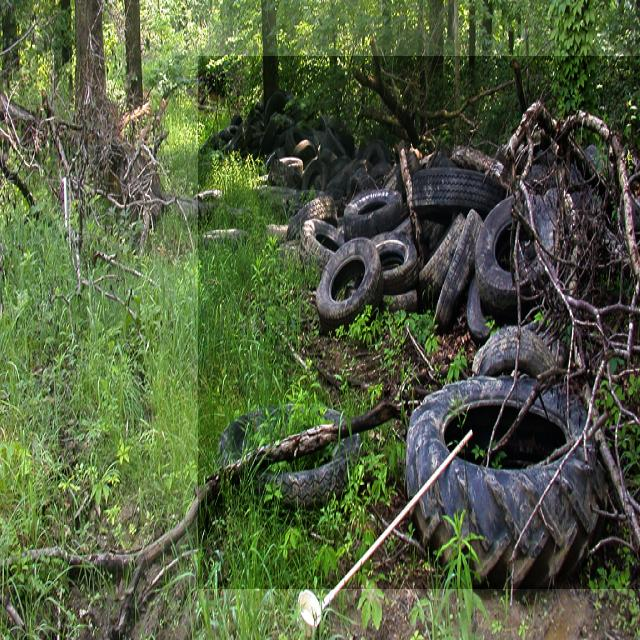dumping: (198, 56, 640, 589)
